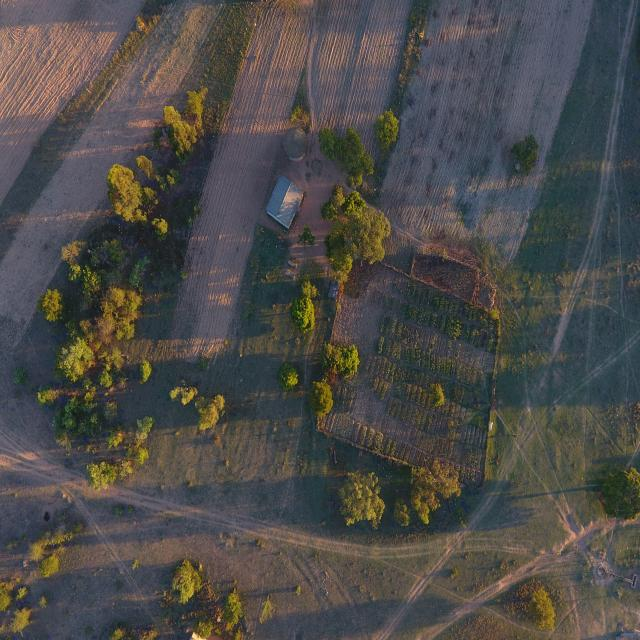boundaries: (10, 11, 165, 212)
